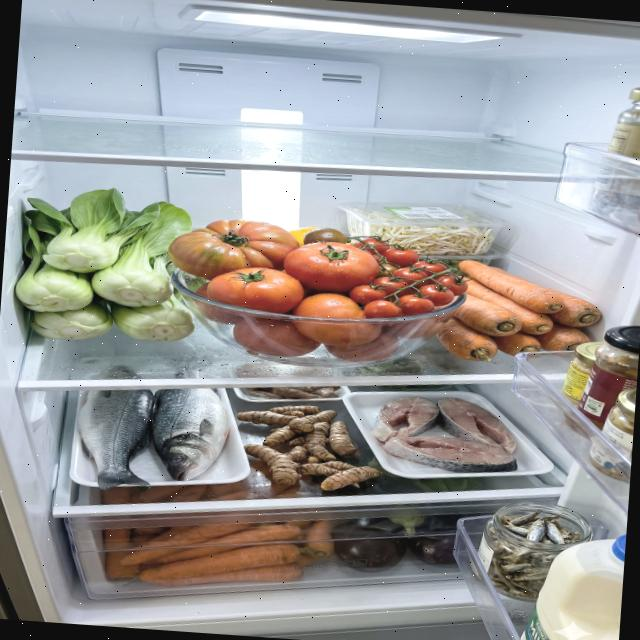anchovies: (484, 504, 584, 602)
bean_sprouts: (351, 208, 495, 258)
carrot: (104, 504, 336, 598), (434, 258, 604, 370)
fish: (72, 378, 233, 498), (370, 392, 522, 476)
pakchoy: (11, 181, 207, 349)
tomato: (202, 219, 472, 370)
turmeric: (232, 400, 388, 494)
